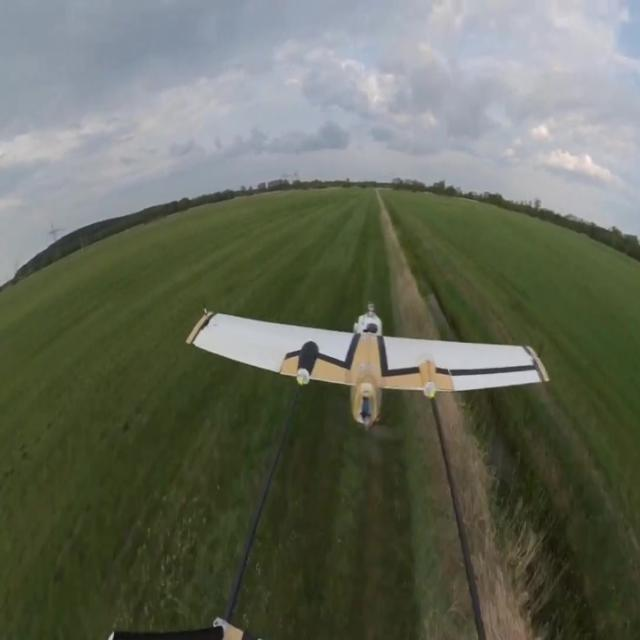iha: (183, 302, 554, 432)
